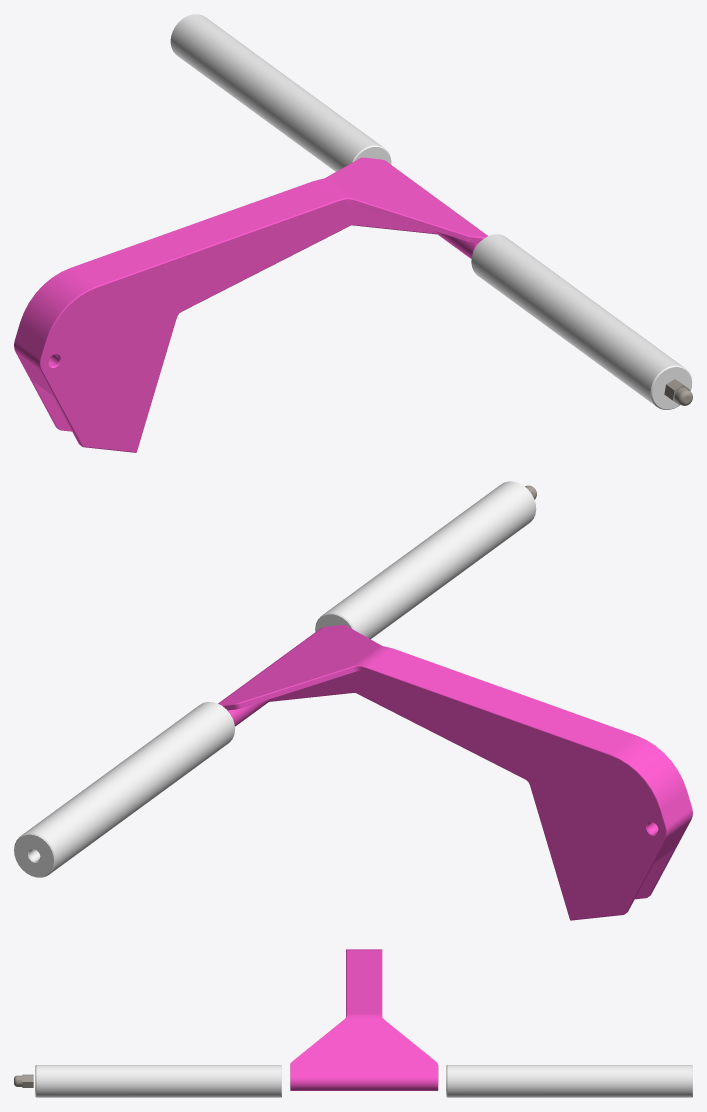
File: glove_wearing_lever_arm.obj
The picture shows the model from 3 angles, top to bottom: view 1: azimuth 30°, elevation 25°; view 2: azimuth 150°, elevation 25°; view 3: azimuth 270°, elevation 25°; orthographic projection. The views are drawn at different scales.
Visible parts, largest first — view 1: Body2; view 2: Body2; view 3: Body2.
Part boxes in pixels (x1,y1,x2,y2): Body2: (14, 14, 692, 452); Body2: (14, 481, 692, 920); Body2: (14, 949, 692, 1097).
Size of the model in its own units: 0.2042 by 0.0934 by 0.413.
